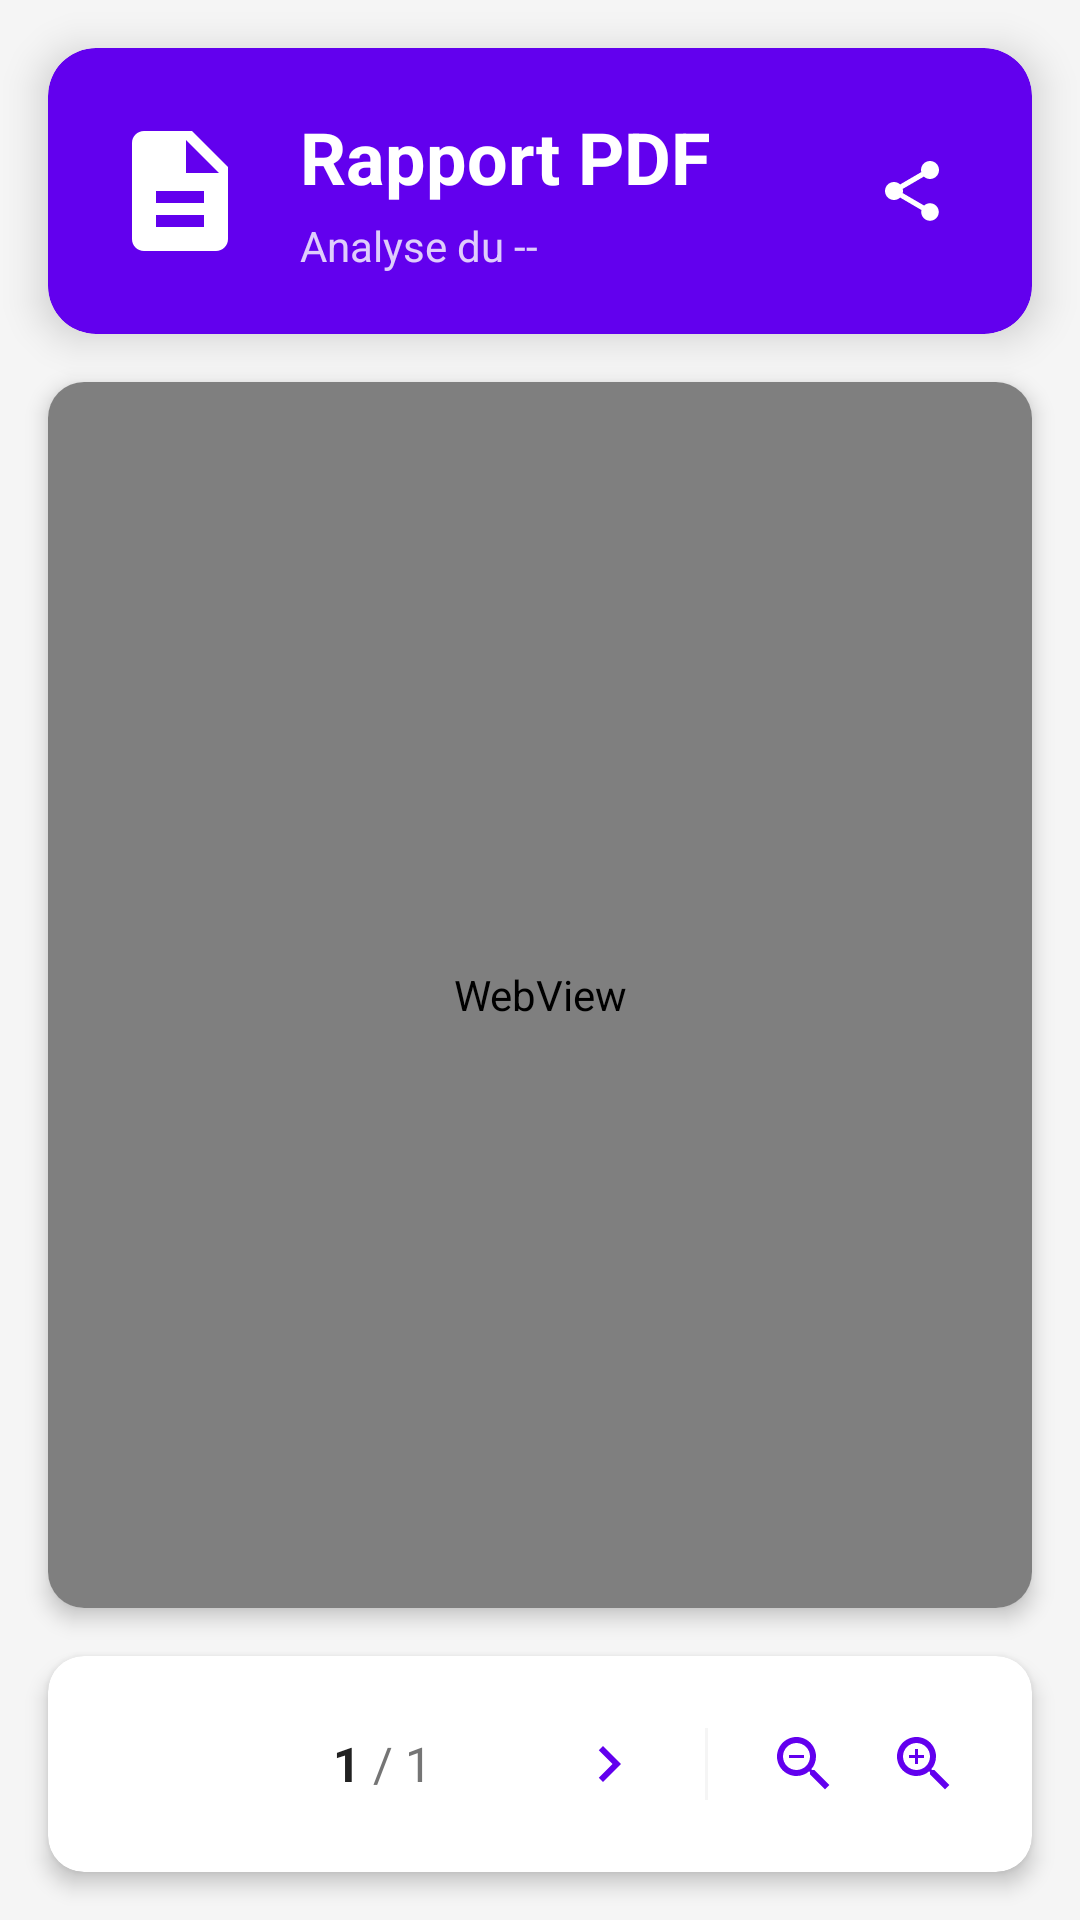

Named icons in this screenshot (1080*1920) and their centers, [x,y]:
Page suivante: [610,1764]
Partager PDF: [912,191]
PDF Report: [180,191]
Zoom arrière: [803,1763]
Zoom avant: [923,1763]
